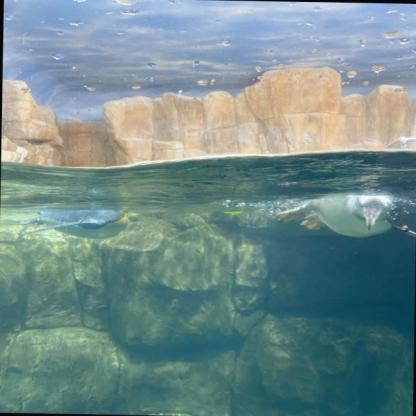penguin: (273, 190, 415, 254), (13, 210, 127, 242)
